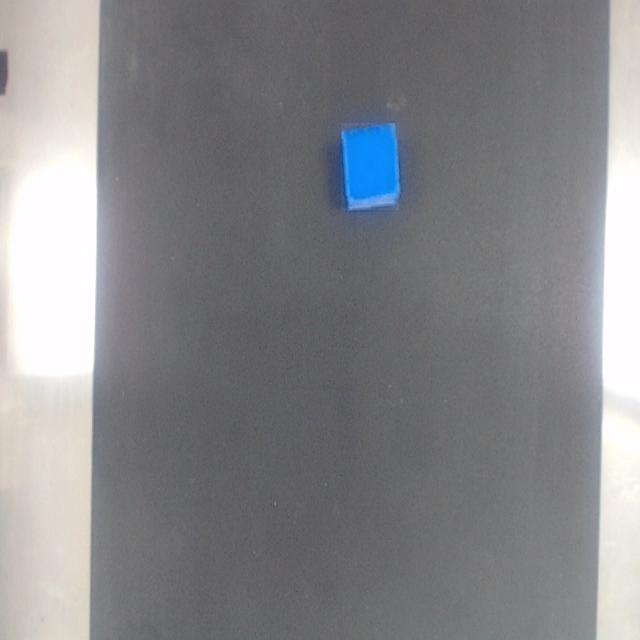Azul: (342, 124, 399, 210)
